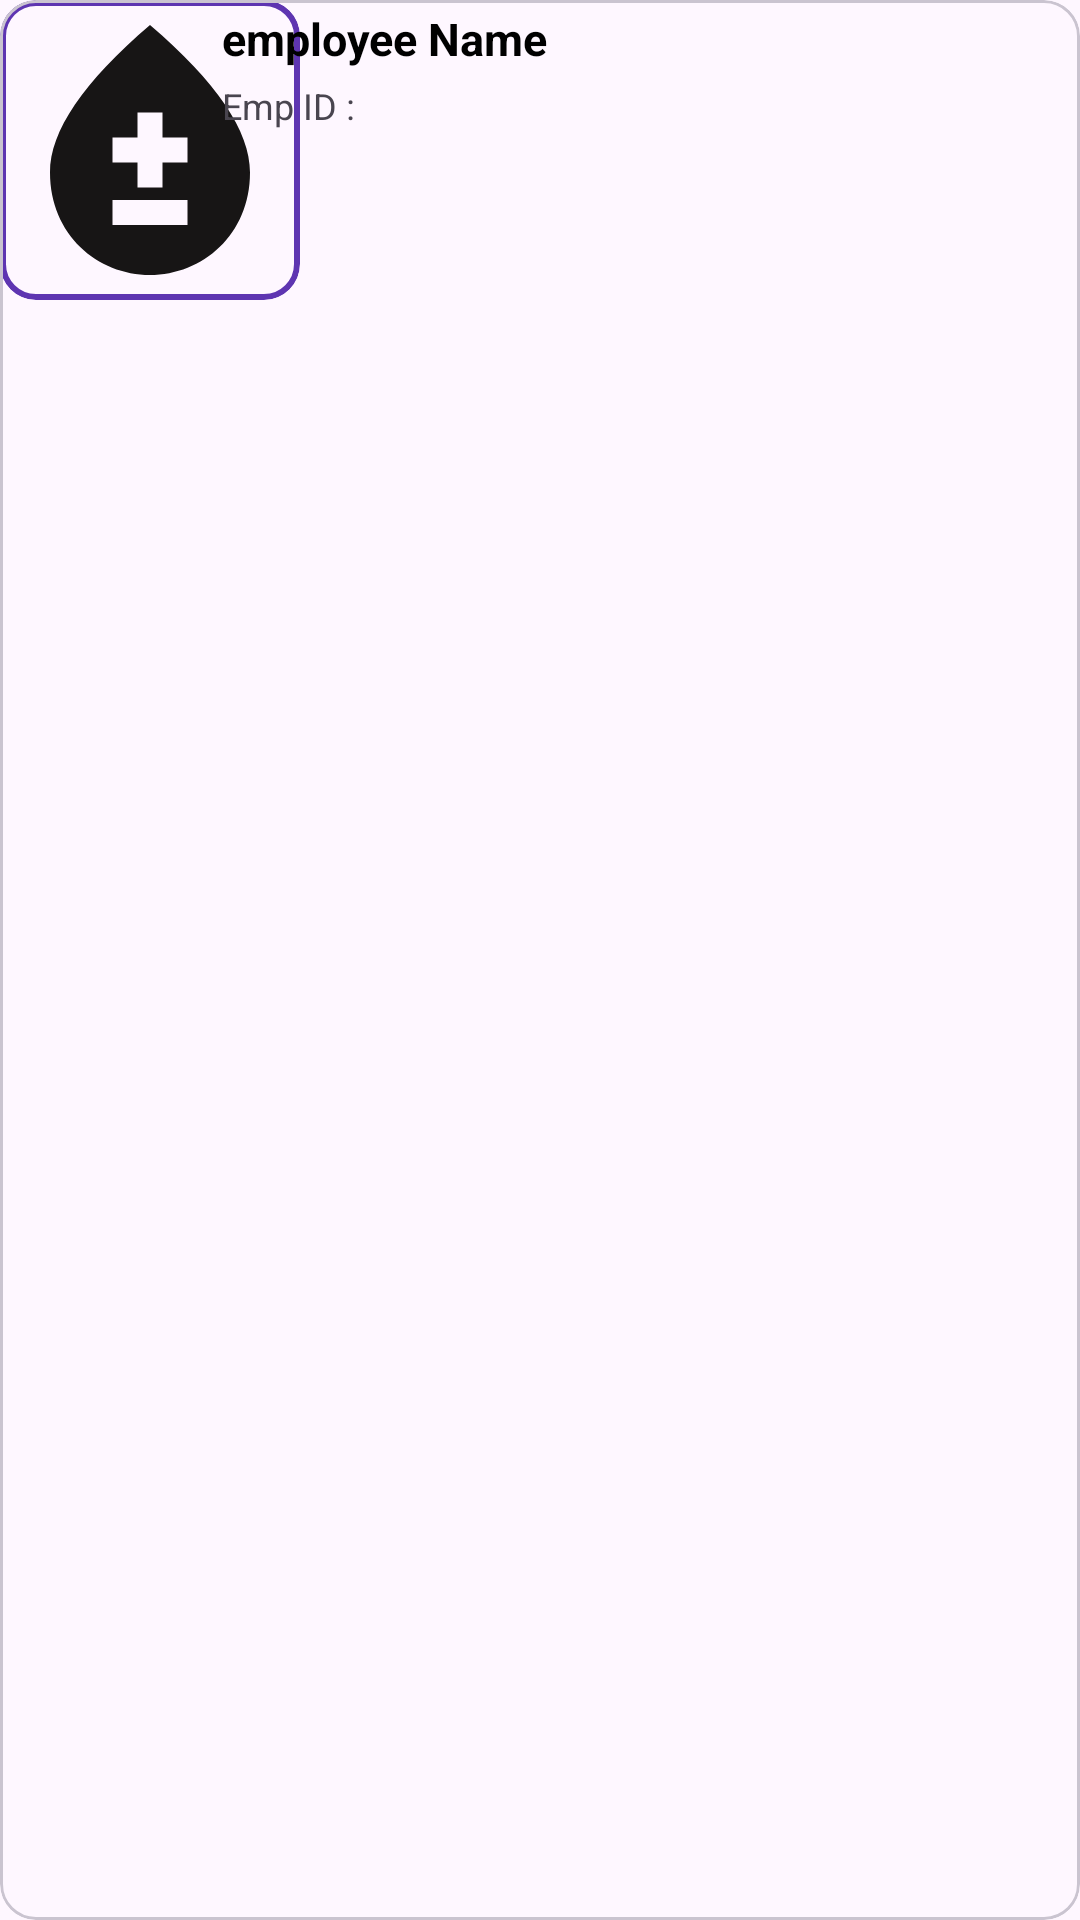

Screen size 1080px×1920px. Icon name, then its center in pixels as (x,y):
bloodtype: (171,150)
